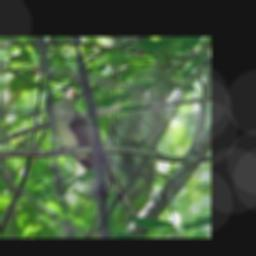Cuckoo: (47, 85, 143, 218)
